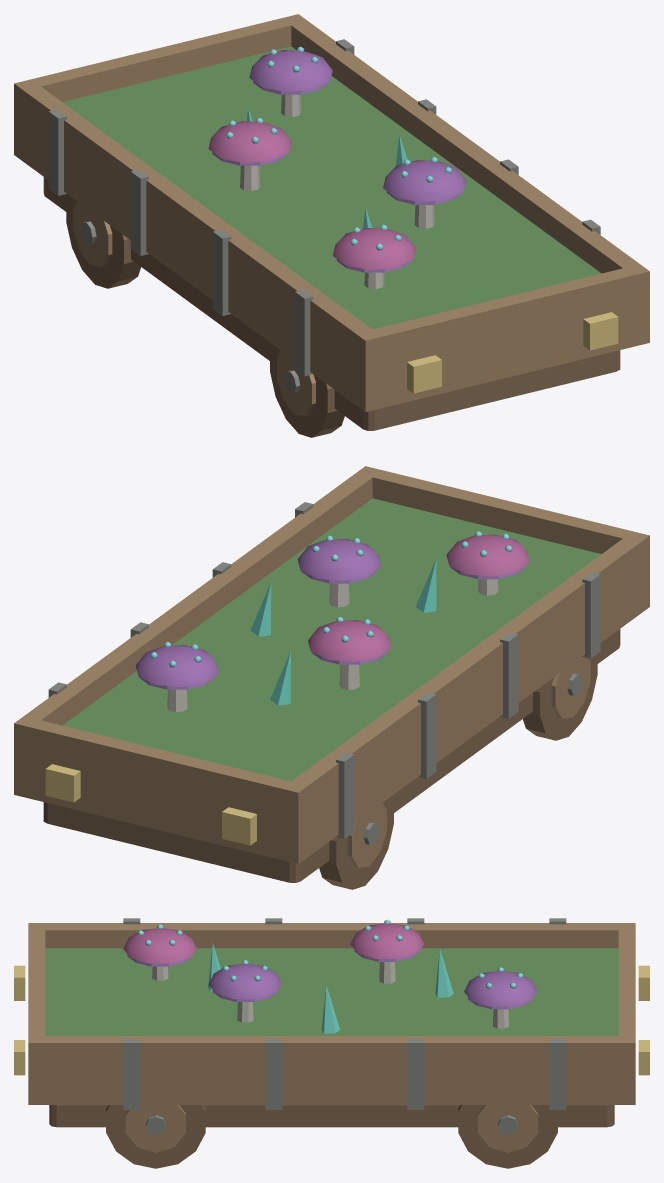
Rendered from rn2-floresta-car.glb.
3 views of the same model, one above another, from view 1: azimuth 30°, elevation 25°; view 2: azimuth 150°, elevation 25°; view 3: azimuth 270°, elevation 25° (orthographic). The views are drawn at different scales.
Parts seen in each view (by area): view 1: rn2_floresta_car_body, rn2_floresta_car_glow; view 2: rn2_floresta_car_body, rn2_floresta_car_glow; view 3: rn2_floresta_car_body, rn2_floresta_car_glow.
Boxes of the visible parts, x1,y1,x2,y2 form: rn2_floresta_car_body: (14, 14, 649, 437); rn2_floresta_car_glow: (212, 46, 618, 393); rn2_floresta_car_body: (14, 466, 649, 889); rn2_floresta_car_glow: (45, 531, 526, 845); rn2_floresta_car_body: (28, 918, 635, 1168); rn2_floresta_car_glow: (14, 919, 649, 1075).
Bounding box in the file's own units: 2.08 × 1.26 × 4.48.
